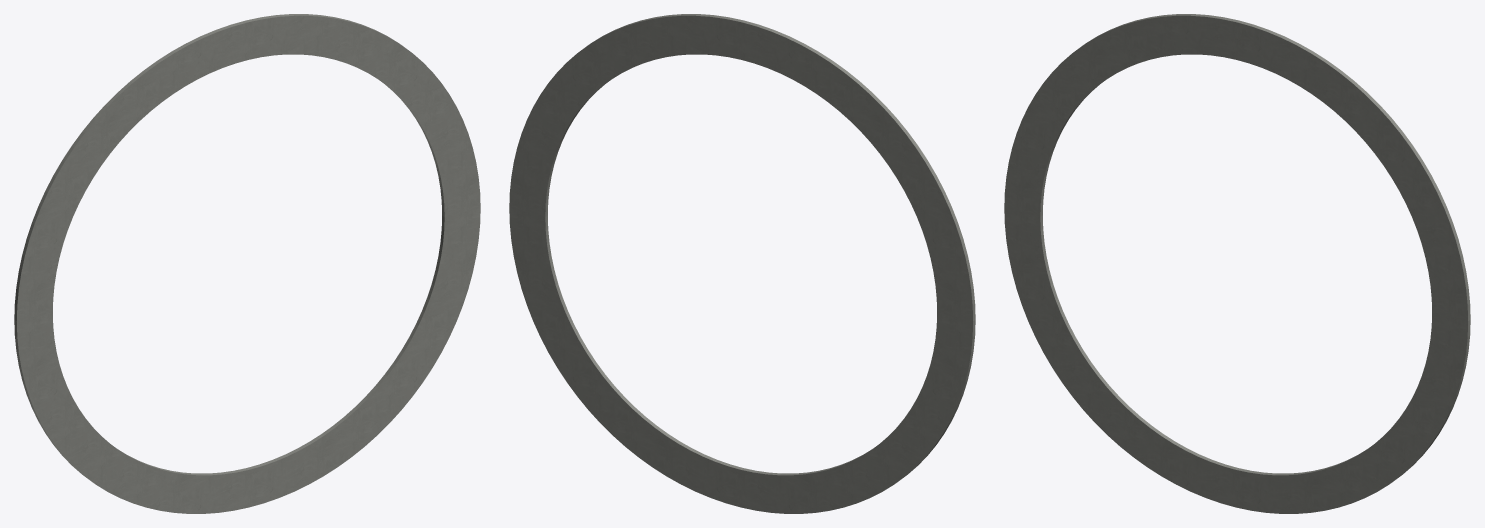
Rendered from grout_ok.glb.
The picture shows the model from 3 angles, left to right: view 1: azimuth 30°, elevation 25°; view 2: azimuth 150°, elevation 25°; view 3: azimuth 330°, elevation 25°; orthographic projection.
Parts seen in each view (by area): view 1: grout; view 2: grout; view 3: grout.
Part boxes in pixels (left/top/right/bottom): grout: left=14, top=14, right=480, bottom=513; grout: left=509, top=14, right=975, bottom=513; grout: left=1004, top=14, right=1470, bottom=513.
Bounding box in the file's own units: 6.44 × 6.44 × 0.06.
Materials: 1 (1 with a texture image).
